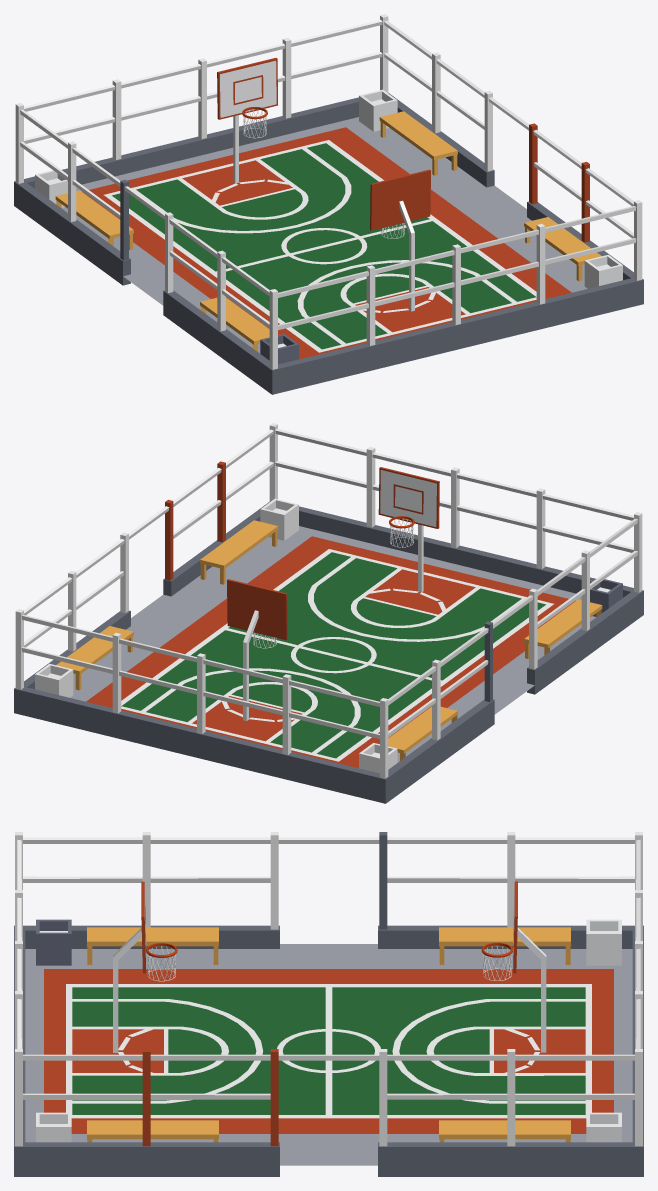
File: basketball_scene.fbx
3 renders of one model, top to bottom at view 1: azimuth 30°, elevation 25°; view 2: azimuth 150°, elevation 25°; view 3: azimuth 270°, elevation 25°, orthographic. The views are drawn at different scales.
Visible parts, largest first — view 1: fence, yard2, basket.001, basket; view 2: fence, yard2, basket, basket.001; view 3: fence, yard2, basket, basket.001.
Boxes of the visible parts, x1,y1,x2,y2 form: fence: (14, 14, 643, 394); yard2: (82, 127, 571, 359); basket.001: (217, 58, 277, 183); basket: (370, 169, 430, 311); fence: (14, 423, 643, 803); yard2: (86, 536, 575, 768); basket: (378, 467, 439, 592); basket.001: (227, 579, 287, 720); fence: (14, 832, 643, 1176); yard2: (44, 969, 613, 1133); basket: (113, 881, 177, 1052); basket.001: (481, 881, 546, 1052).
Size of what is drawn, in the model's own units: 998 by 345 by 1200.
Materials: 1 (1 with a texture image).
